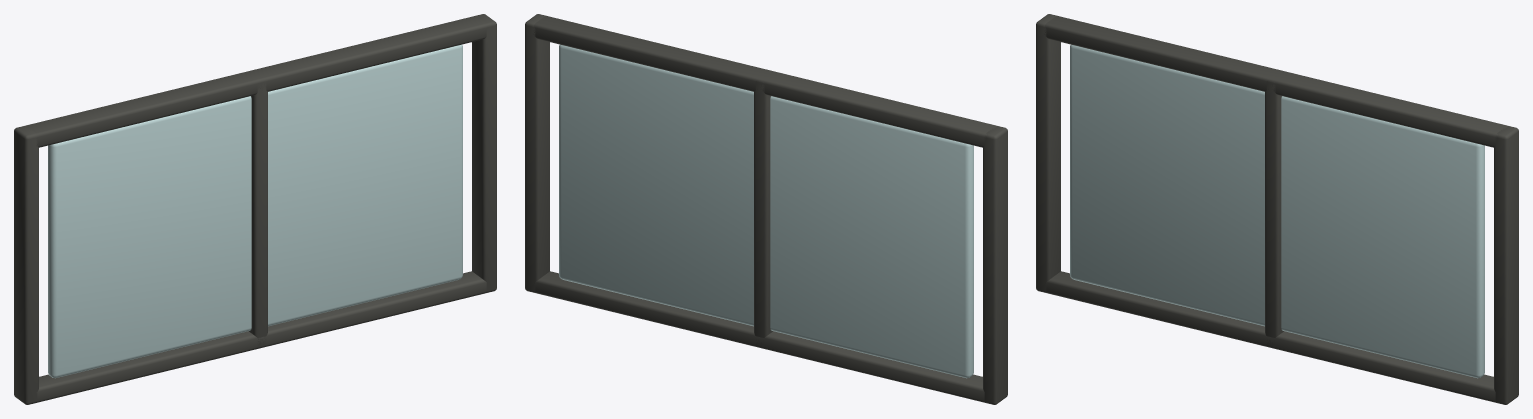
The model's file is window-wide.glb.
The picture shows the model from 3 angles, left to right: view 1: azimuth 30°, elevation 25°; view 2: azimuth 150°, elevation 25°; view 3: azimuth 330°, elevation 25°; orthographic projection.
Parts seen in each view (by area): view 1: pane, frame.006, frame.005, frame.002, frame.004, frame.003; view 2: pane, frame.006, frame.005, frame.002, frame.004, frame.003; view 3: pane, frame.006, frame.005, frame.004, frame.002, frame.003.
Boxes of the visible parts, x1,y1,x2,y2 form: pane: (48,44,462,378); frame.006: (24,15,487,147); frame.005: (36,271,487,402); frame.002: (14,126,38,404); frame.004: (472,14,496,292); frame.003: (249,78,267,348); pane: (559,44,973,378); frame.006: (533,15,997,147); frame.005: (534,271,985,402); frame.002: (983,126,1007,404); frame.004: (525,14,549,292); frame.003: (754,80,772,348); pane: (1070,44,1484,378); frame.006: (1044,15,1508,147); frame.005: (1045,271,1496,402); frame.004: (1494,126,1518,404); frame.002: (1036,14,1060,292); frame.003: (1265,80,1283,348).
Size of the model in its own units: 3.3 by 1.8 by 0.16.
